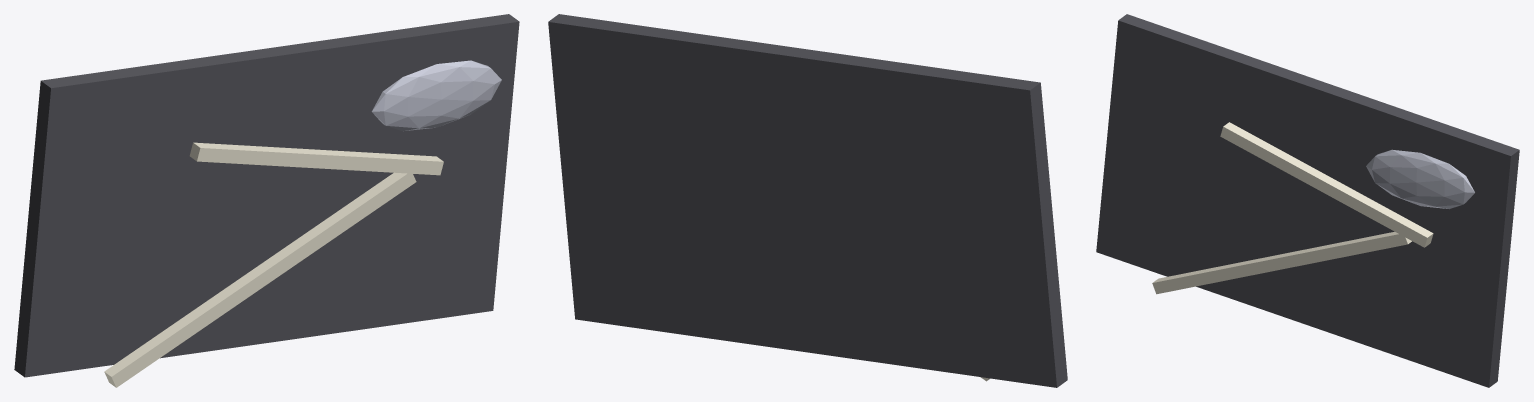
The model's file is 06_weathering_wear_overlay_6.glb.
3 views of the same model, side by side, from view 1: azimuth 30°, elevation 25°; view 2: azimuth 150°, elevation 25°; view 3: azimuth 330°, elevation 25° (orthographic). The views are drawn at different scales.
Visible parts, largest first — view 1: wear_plate, scratch_a, rust_or_moss_spot, scratch_b; view 2: wear_plate; view 3: wear_plate, rust_or_moss_spot, scratch_b, scratch_a.
Part boxes in pixels (x1=…): wear_plate: x1=14, y1=14, x2=519, y2=377; scratch_a: x1=104, y1=172, x2=416, y2=387; rust_or_moss_spot: x1=371, y1=60, x2=501, y2=131; scratch_b: x1=189, y1=142, x2=443, y2=175; wear_plate: x1=548, y1=14, x2=1067, y2=387; wear_plate: x1=1096, y1=14, x2=1519, y2=387; rust_or_moss_spot: x1=1366, y1=149, x2=1474, y2=208; scratch_b: x1=1220, y1=122, x2=1433, y2=247; scratch_a: x1=1152, y1=231, x2=1411, y2=294.
Bounding box in the file's own units: 1.37 × 0.8723 × 0.134.
